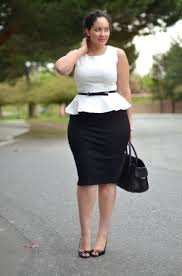F_tailored skirt: (64, 101, 138, 191)
